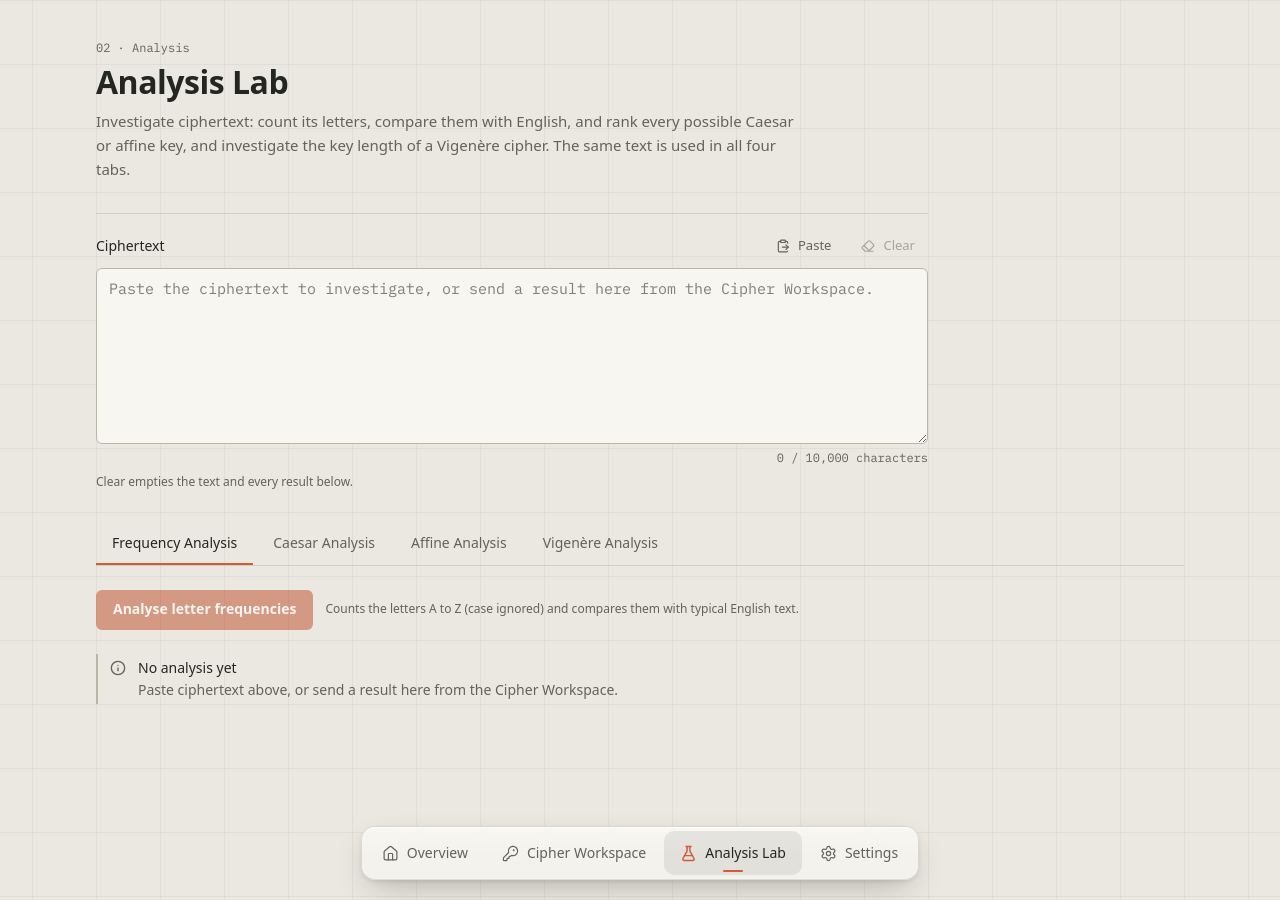
Test: frequency analysis › posts the text and shows real counts from the reply, not sample data
Clear the text box labelled "Ciphertext" at (512, 356), box [96,268,928,444]
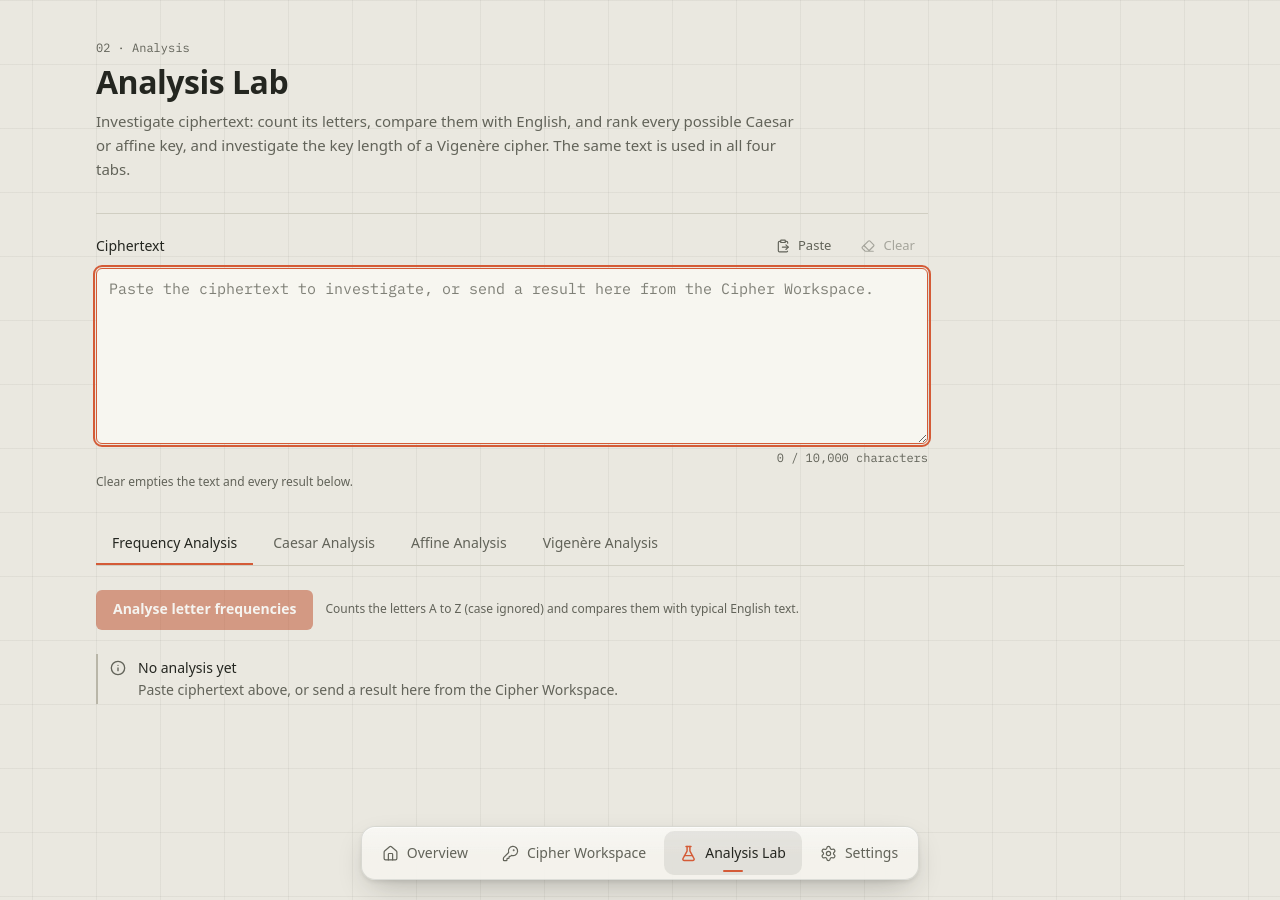
Type keys "EEE ttt a"
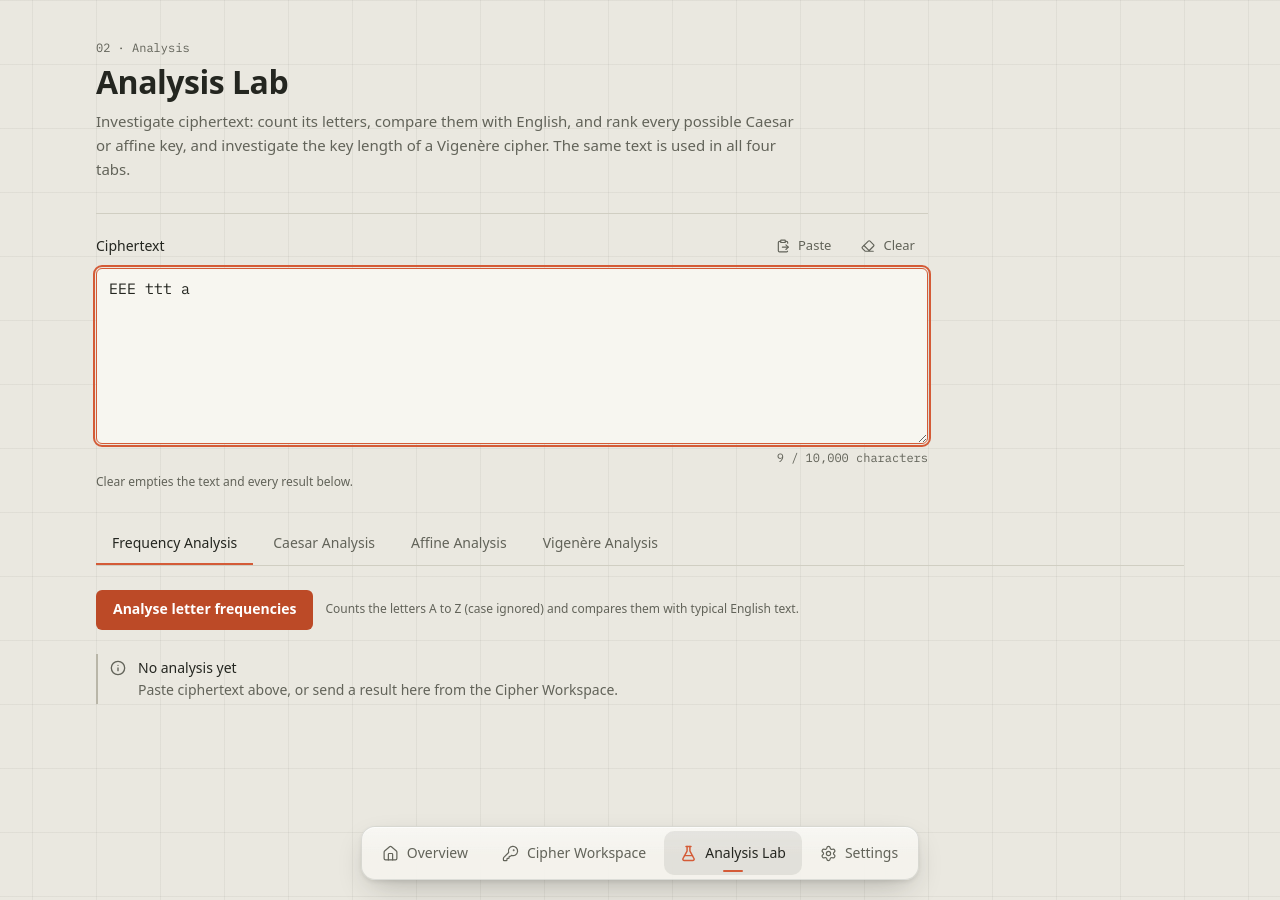
Click the button "Analyse letter frequencies" at (205, 610), box [96,590,313,630]
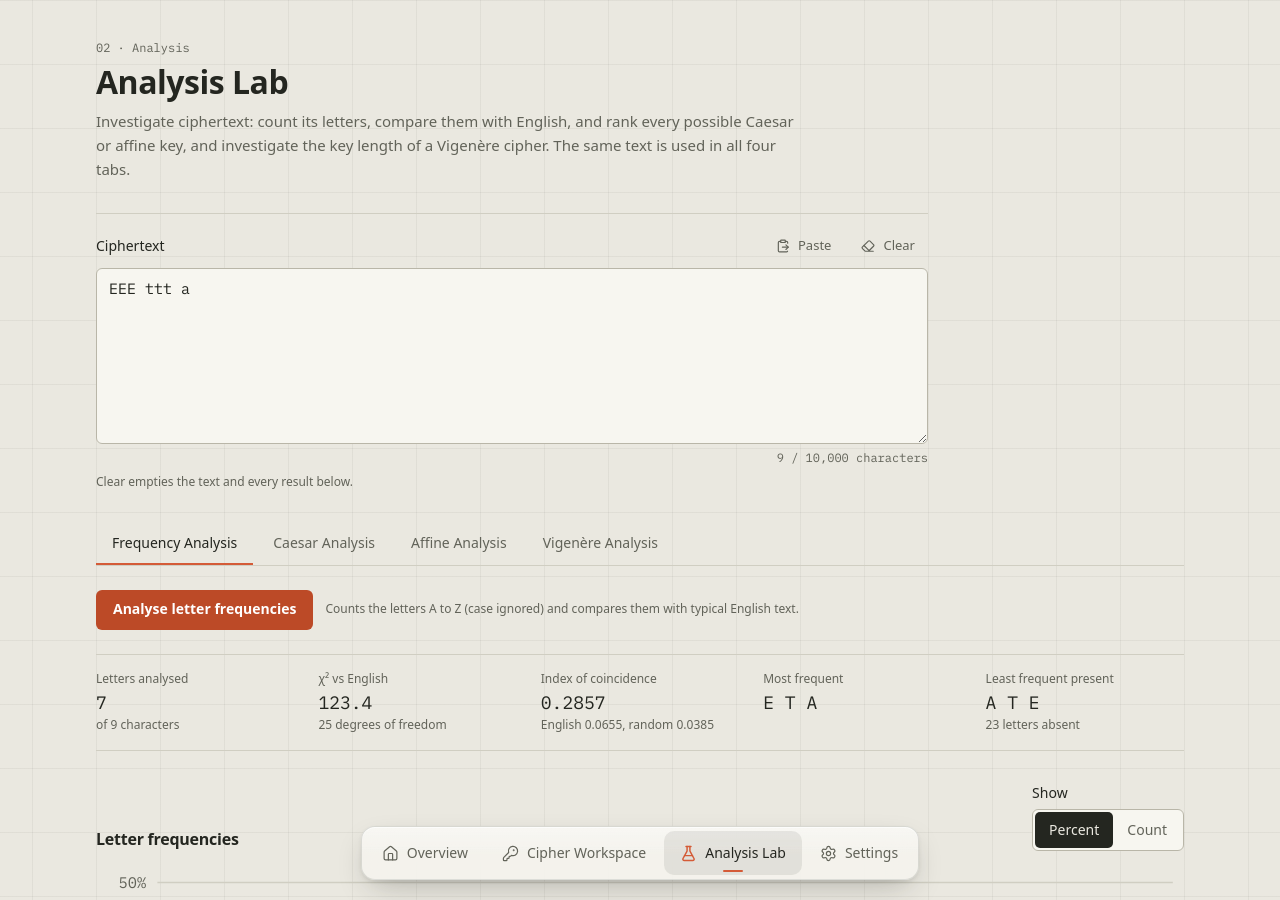
Check: the text "123.4" is shown, box [318,691,372,714]
Check: the text "7" is shown, box [96,691,107,714]
